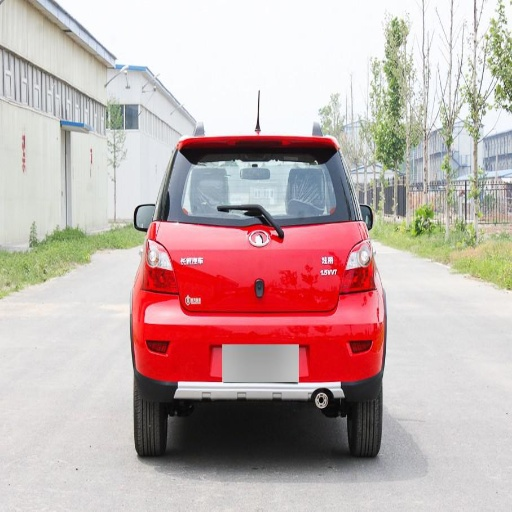back_bumper: (136, 273, 383, 400)
trunk: (149, 222, 357, 340)
